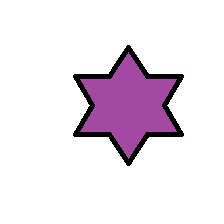star: (71, 45, 185, 167)
